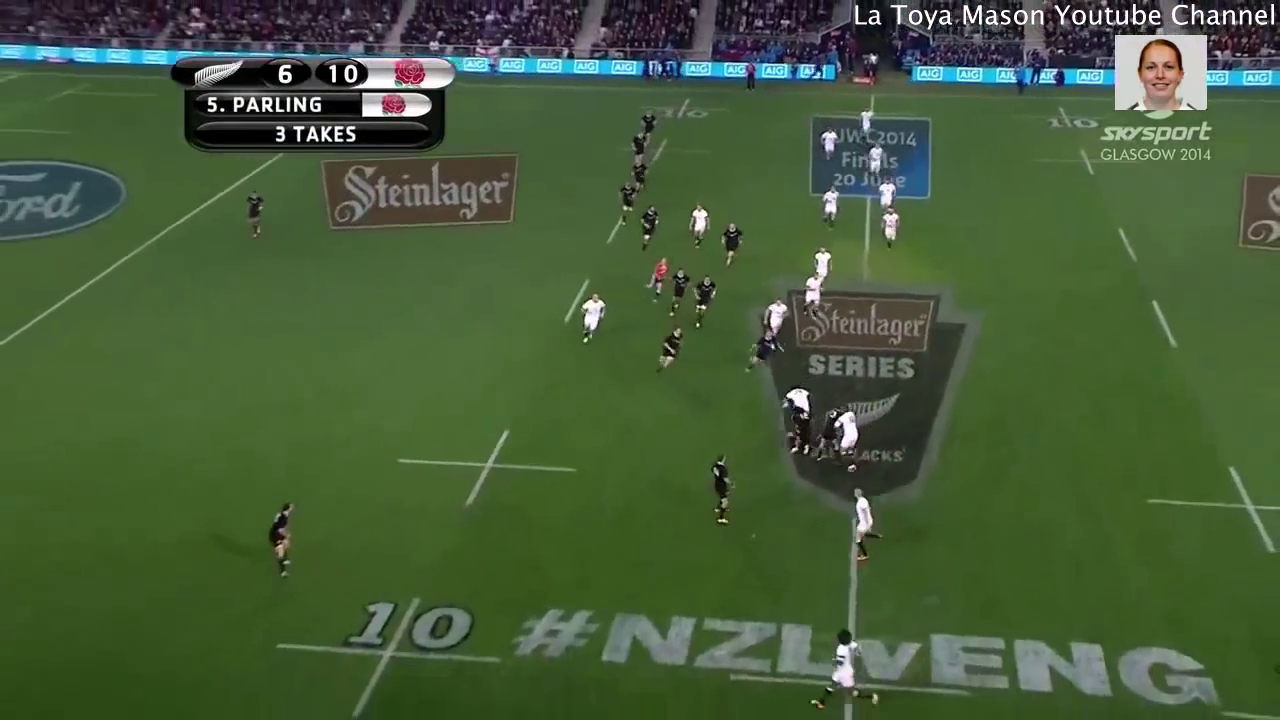10_metre: (272, 592, 517, 720), (391, 423, 585, 517), (1133, 456, 1280, 563), (1026, 141, 1153, 184), (612, 133, 721, 169), (633, 94, 737, 124), (1016, 103, 1112, 133)
player: (805, 620, 885, 713), (257, 497, 305, 584), (844, 484, 885, 565), (704, 450, 739, 535), (835, 405, 869, 476), (738, 326, 781, 379), (685, 269, 718, 338), (813, 402, 848, 467), (650, 321, 686, 381), (638, 249, 672, 310), (575, 289, 609, 350), (783, 404, 817, 460), (774, 379, 817, 422), (715, 219, 748, 275), (238, 184, 269, 243), (757, 294, 793, 343), (663, 266, 695, 321), (681, 198, 714, 251), (814, 181, 846, 235), (609, 179, 641, 232), (634, 201, 662, 256), (798, 268, 825, 322), (871, 164, 899, 214), (815, 123, 843, 166), (876, 205, 902, 251), (809, 243, 835, 288), (625, 162, 653, 199), (627, 128, 651, 170), (863, 139, 885, 181), (636, 109, 659, 148), (857, 103, 877, 146)
